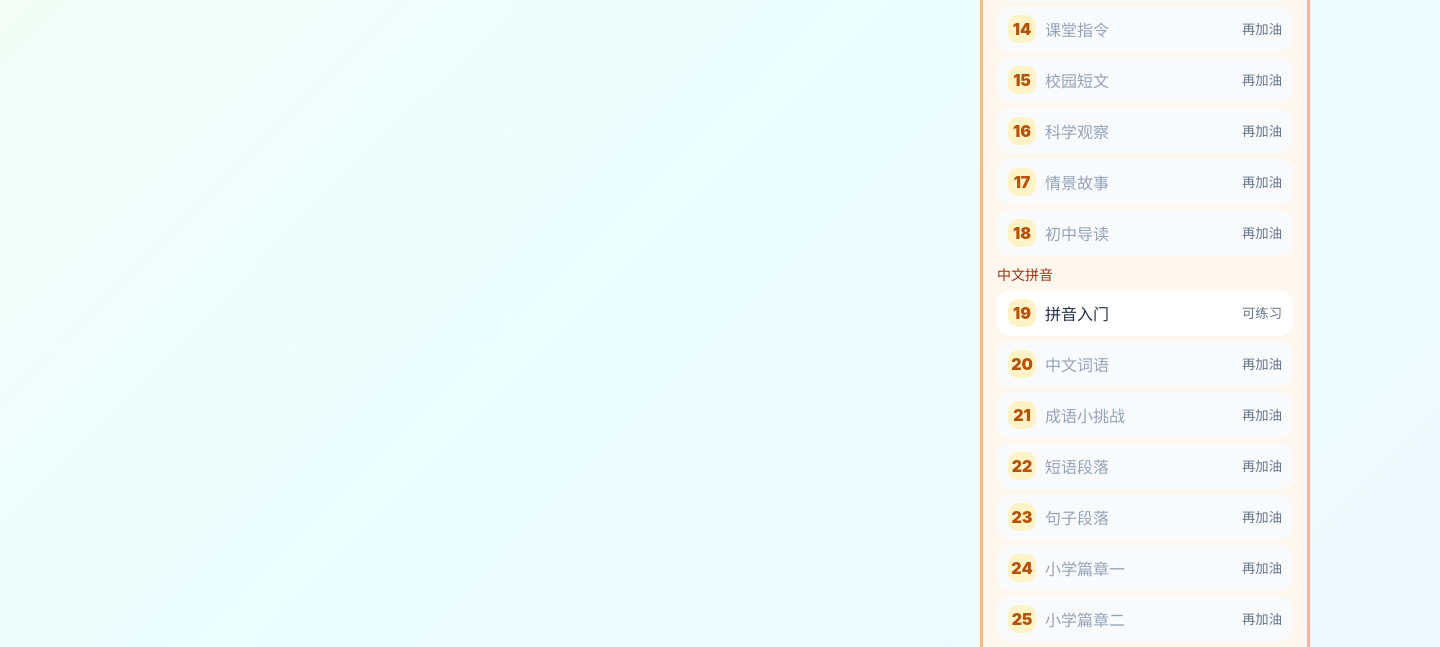
Test: App › lets a child practice pinyin from chinese labels
This screenshot has width=1440, height=647.
(page scrolled)
Click the button "19 拼音入门 可练习" at [1077, 314], box [997, 290, 1293, 336]
(page scrolled)
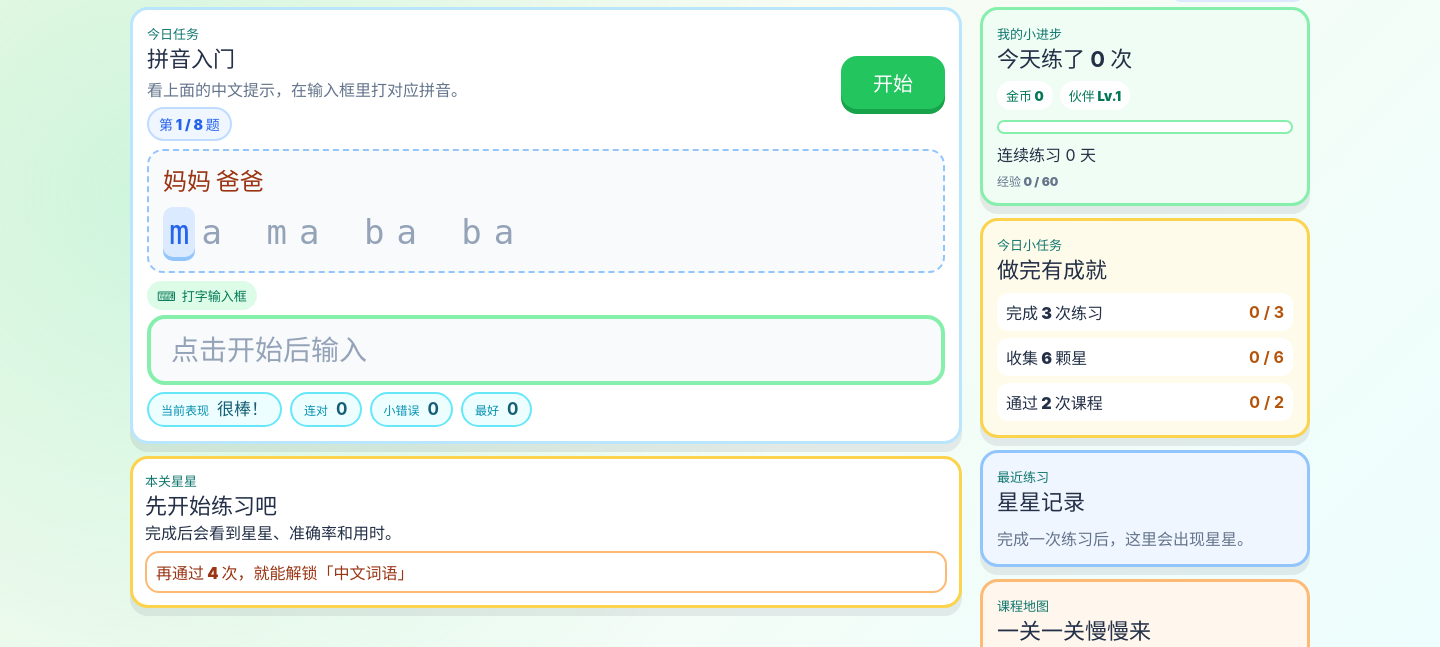
Expected: the heading "拼音入门" is shown, [147, 46, 235, 72]
Expected: the text "妈妈 爸爸" is shown, [163, 167, 264, 196]
